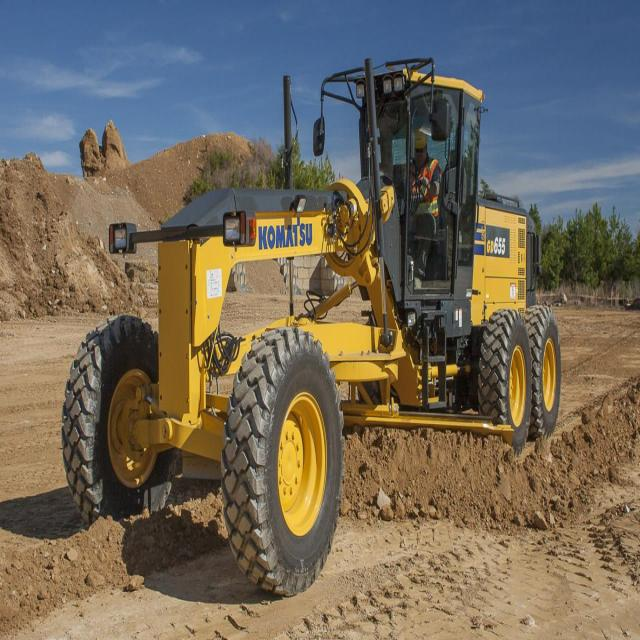Grader: (56, 43, 576, 602)
